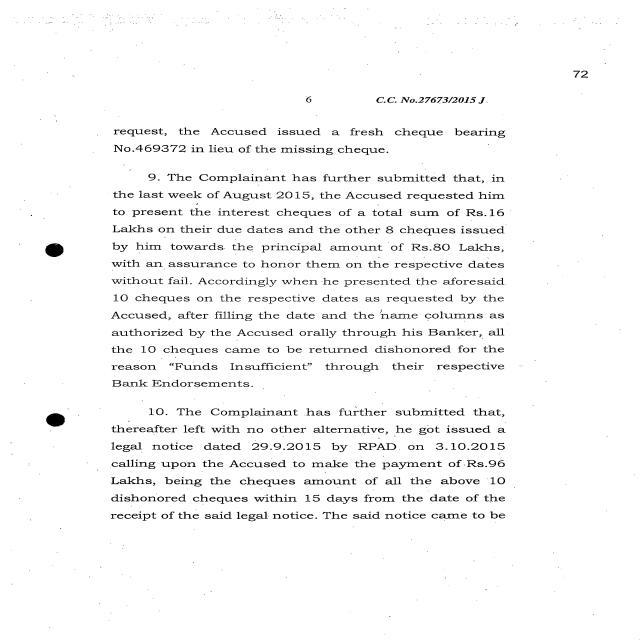page-number: (488, 37, 640, 123)
